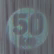Speed limit: (4, 6, 50, 52)
